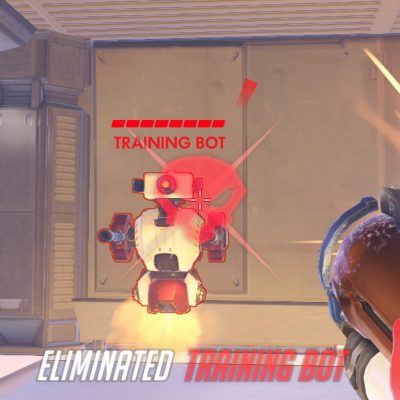hpbar: (111, 119, 226, 128)
